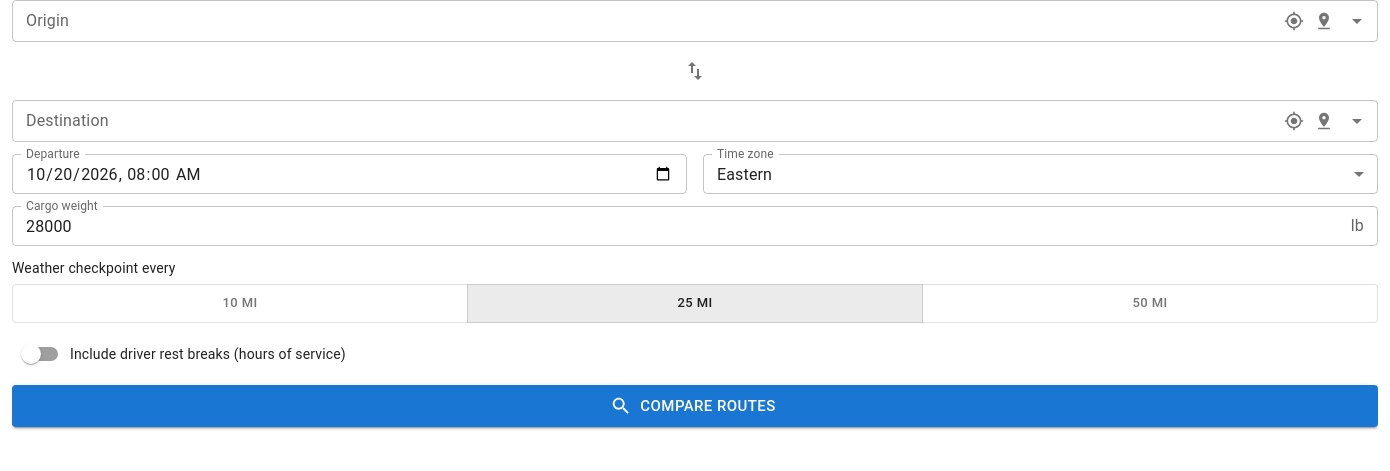
Test case: RouteForm › explains a denied location permission instead of failing silently
Click the button named "use my current location as destination".
click(1294, 121)  # box [1279, 106, 1309, 136]
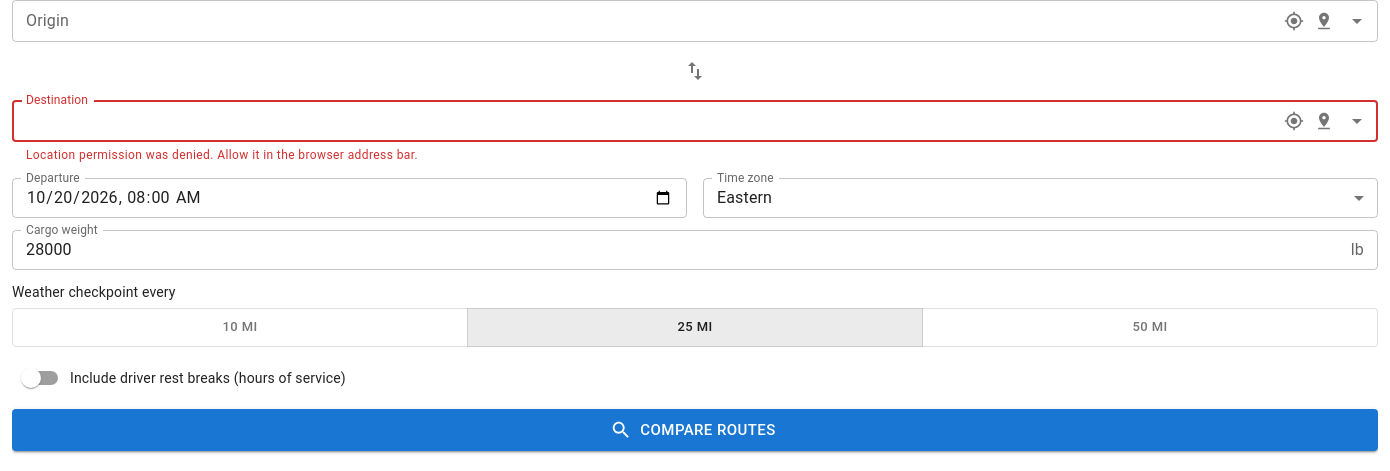
Expected: the text "permission was denied" is shown, [26, 148, 418, 162]
